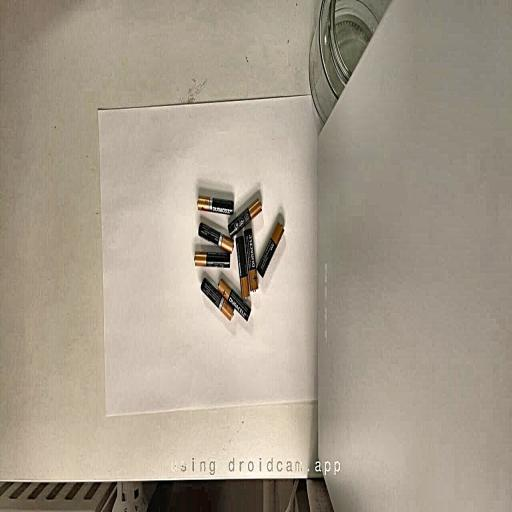DuracellAAA: (201, 277, 233, 321), (257, 223, 283, 277), (218, 279, 251, 320), (228, 198, 261, 236), (198, 222, 233, 253), (236, 235, 250, 298), (244, 230, 258, 291), (198, 196, 234, 215), (194, 252, 230, 267)
